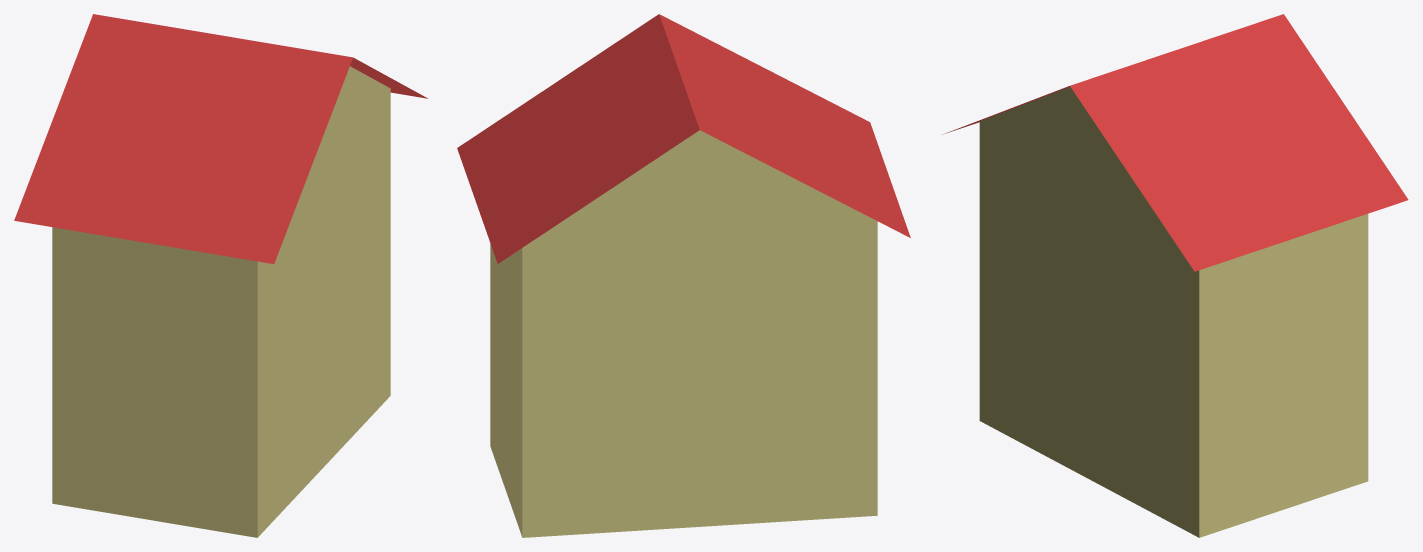
3 renders of one model, left to right at view 1: azimuth 30°, elevation 25°; view 2: azimuth 150°, elevation 25°; view 3: azimuth 270°, elevation 25°, orthographic. The views are drawn at different scales.
Bounding box in the file's own units: 8.53 × 8.14 × 7.7.
